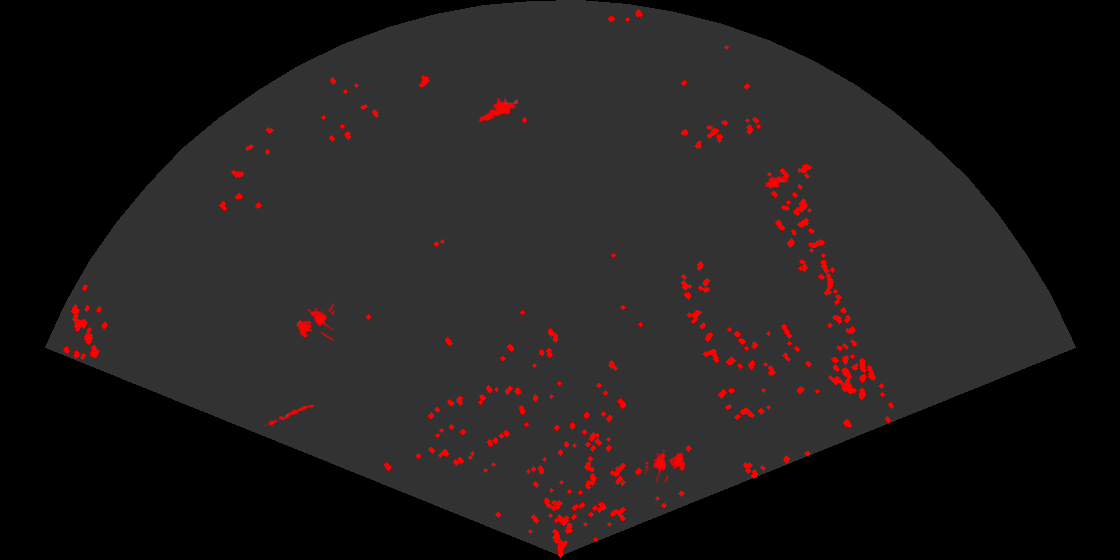AUV: (764, 175, 790, 190)
cage: (295, 301, 334, 343), (645, 448, 687, 482)
chain: (264, 403, 316, 428)
frogman: (476, 96, 518, 124)
